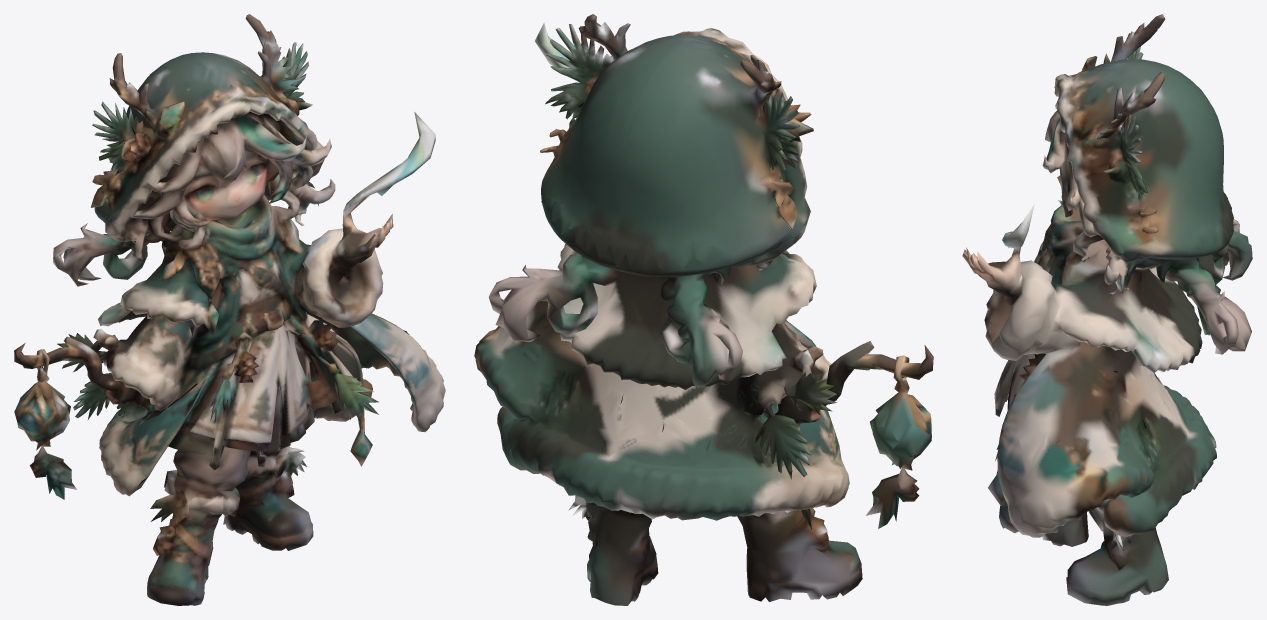
Rendered from original.glb.
3 renders of one model, left to right at view 1: azimuth 30°, elevation 25°; view 2: azimuth 150°, elevation 25°; view 3: azimuth 270°, elevation 25°, orthographic. The views are drawn at different scales.
Parts seen in each view (by area): view 1: Body; view 2: Body; view 3: Body.
Boxes of the visible parts, <box> form: Body: <box>14,14,445,605</box>; Body: <box>474,14,933,605</box>; Body: <box>962,14,1252,605</box>.
Bounding box in the file's own units: 0.8389 × 1 × 0.5063.
1 material, 1 textured.
